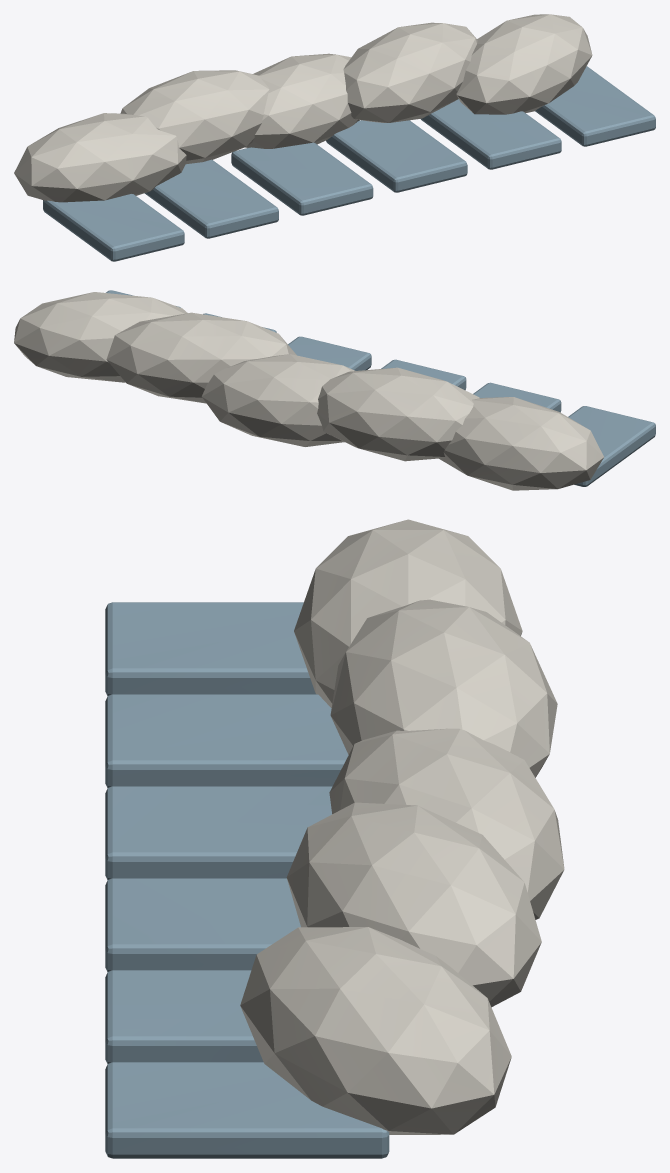
Rendered from glacier_snowbank_v1.glb.
The picture shows the model from 3 angles, top to bottom: view 1: azimuth 30°, elevation 25°; view 2: azimuth 150°, elevation 25°; view 3: azimuth 270°, elevation 25°; orthographic projection. The views are drawn at different scales.
Visible parts, largest first — view 1: glacier_snowbank_v1; view 2: glacier_snowbank_v1; view 3: glacier_snowbank_v1.
Boxes of the visible parts, box(x1,y1,x2,y2) form: glacier_snowbank_v1: box(14, 14, 655, 261); glacier_snowbank_v1: box(14, 290, 655, 490); glacier_snowbank_v1: box(105, 519, 564, 1158).
Size of the model in its own units: 5.57 by 0.8192 by 1.94.
